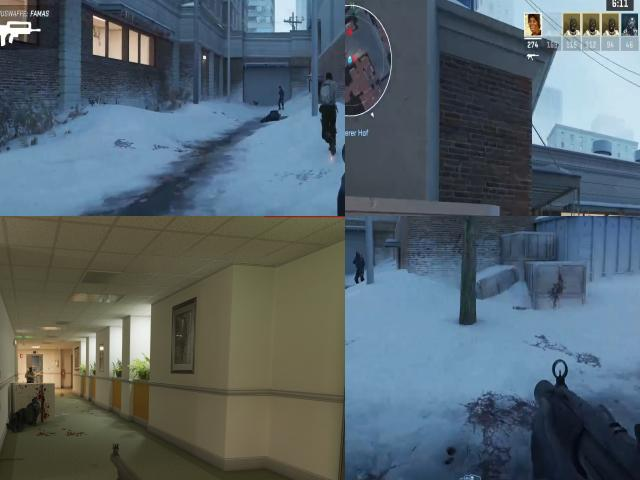CT: (354, 250, 364, 276), (278, 85, 285, 105)
CT-Head: (355, 250, 364, 261)
Dead: (8, 397, 46, 431), (260, 109, 282, 122)
T: (318, 75, 337, 116), (26, 366, 35, 382)
T-Head: (324, 68, 334, 87), (29, 367, 33, 372)
